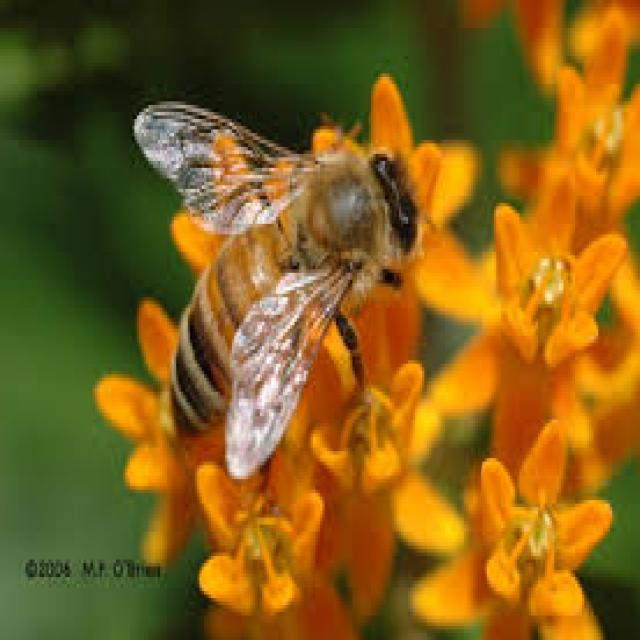Bees: (132, 97, 419, 483)
